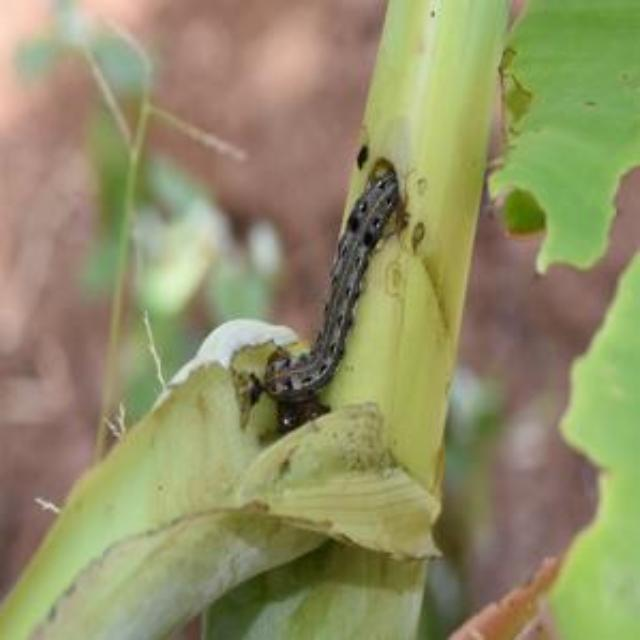Tobacco cutworm: (197, 131, 448, 469)
